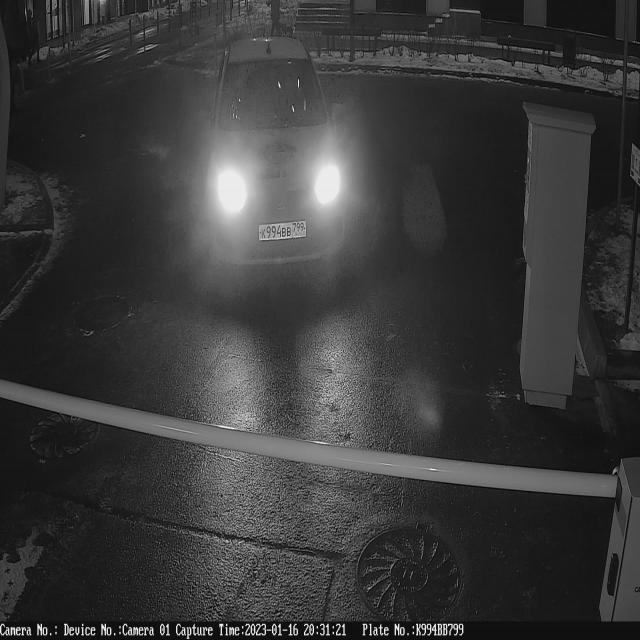car-plate-numbers: (256, 210, 309, 251)
